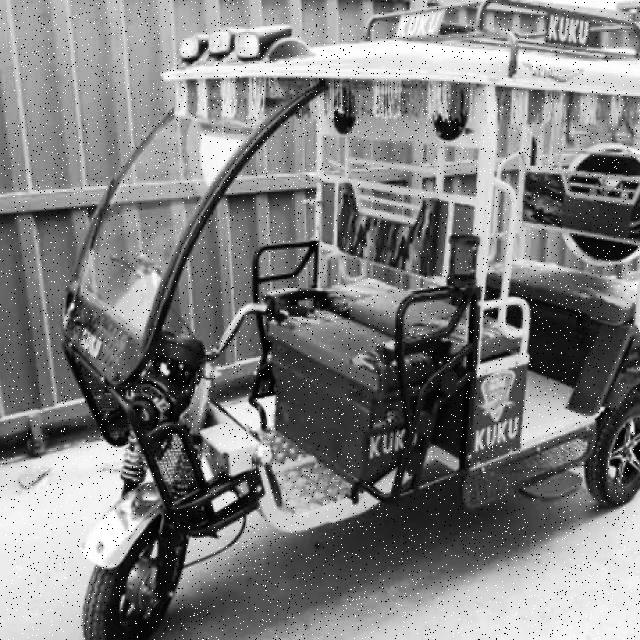Toto: (47, 27, 639, 639)
